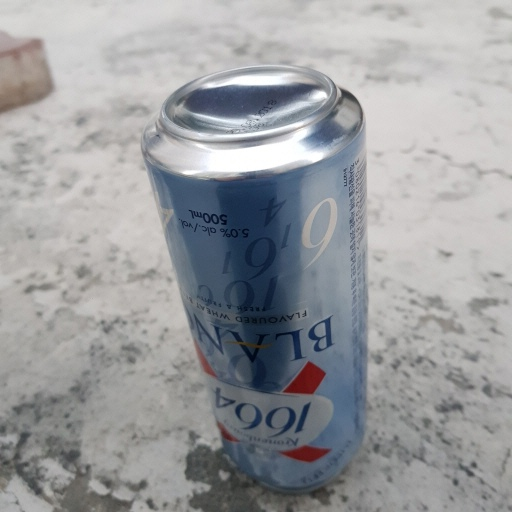Metal_0: (137, 59, 370, 490)
